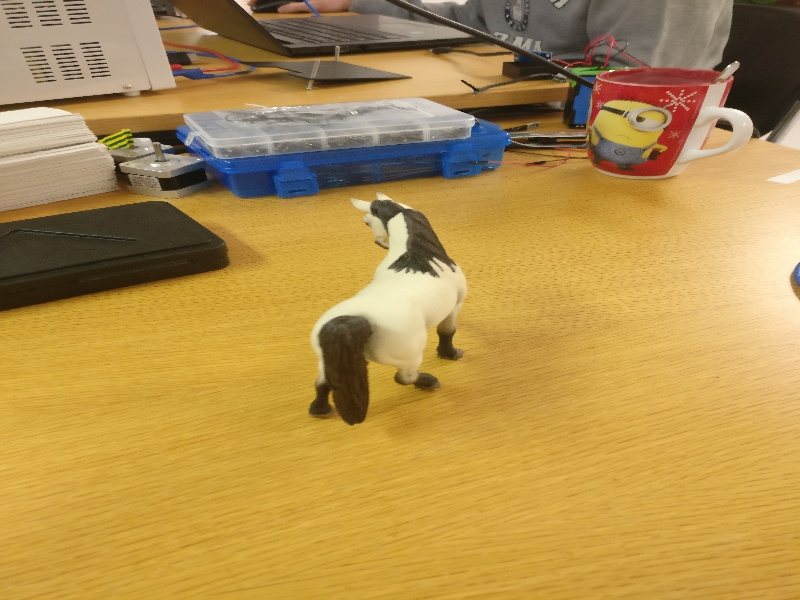toy: (303, 187, 472, 428)
